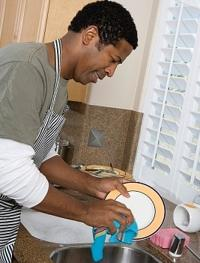person: (1, 1, 138, 263)
